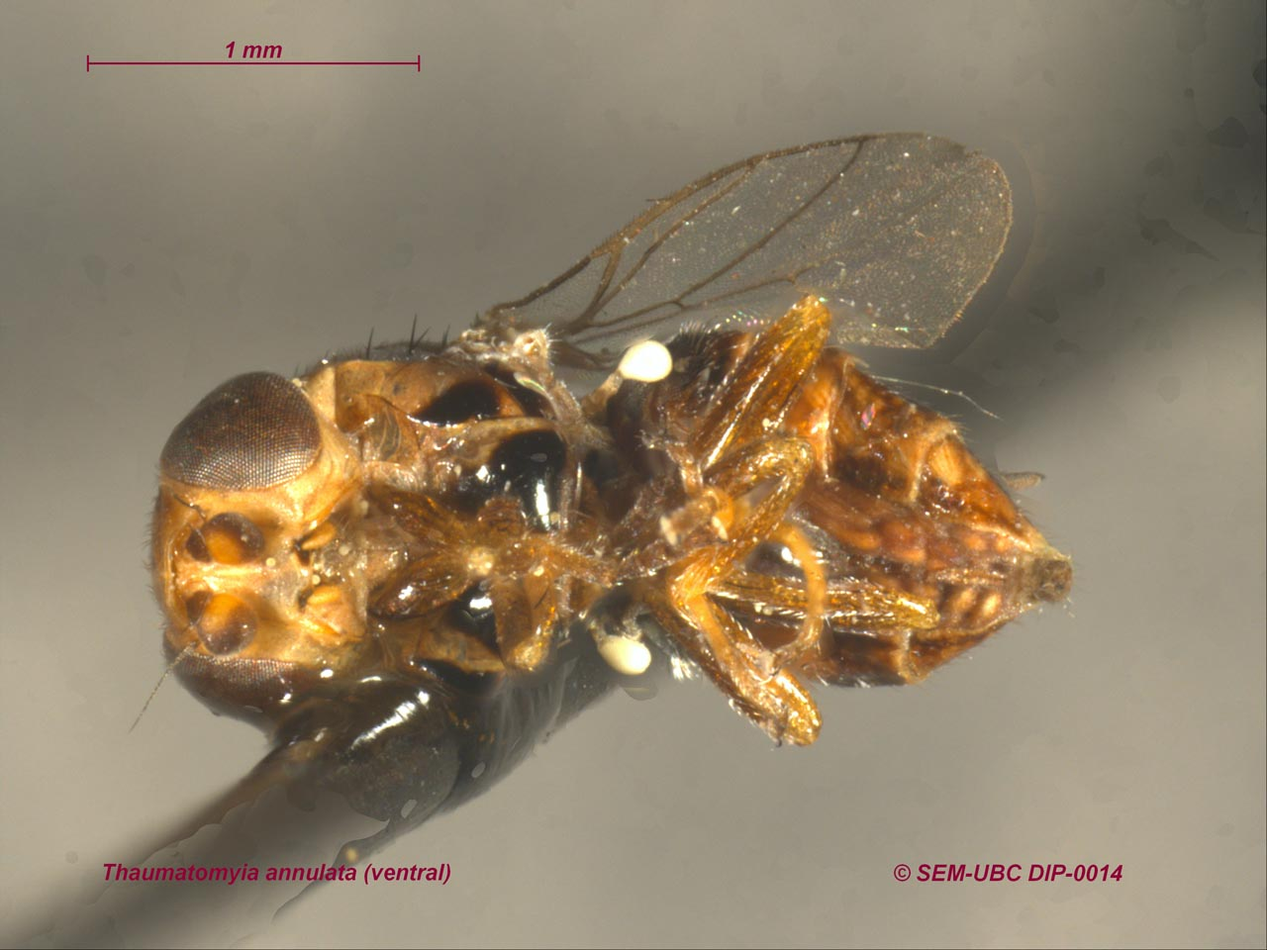Chloropidae: (123, 111, 1098, 801)
